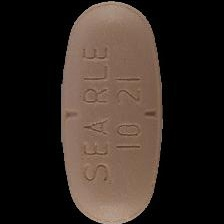0025-1021: (0, 0, 224, 224)
